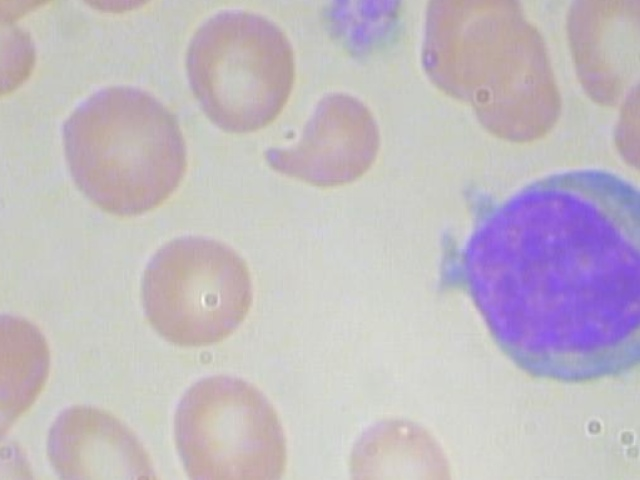RBC: (49, 77, 200, 231), (173, 0, 310, 141), (124, 229, 267, 351), (159, 365, 300, 480), (259, 69, 391, 191), (409, 0, 528, 99), (329, 401, 469, 480), (558, 0, 640, 111), (0, 307, 59, 448), (613, 39, 640, 180), (41, 0, 183, 16)
WBC: (423, 164, 640, 403)
